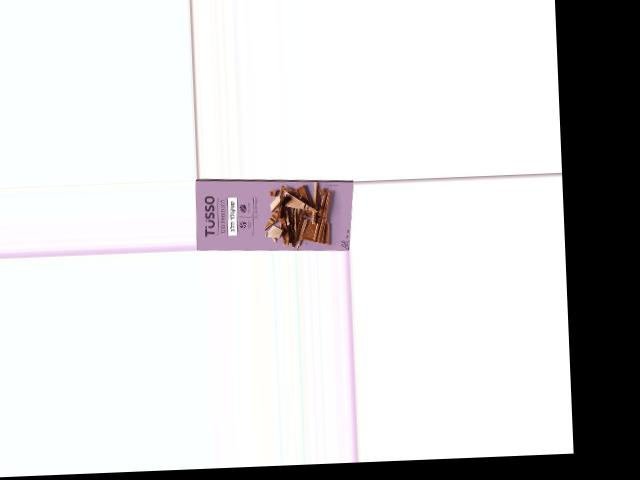chocolate: (197, 177, 356, 252)
